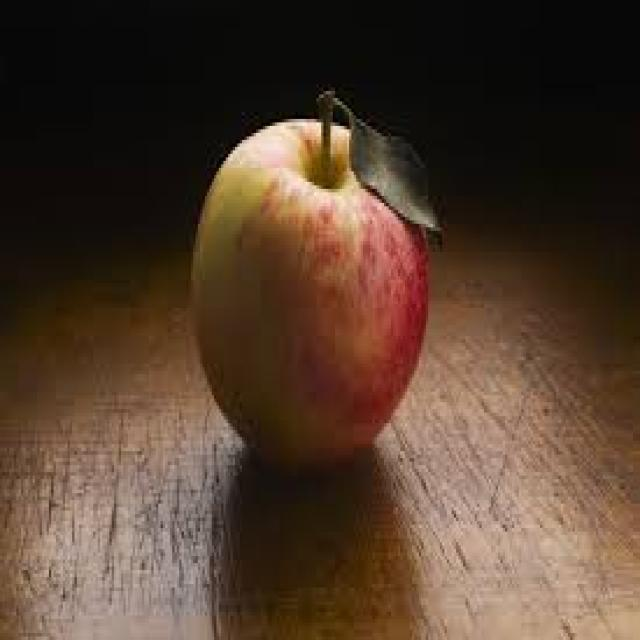apple: (185, 90, 437, 482)
